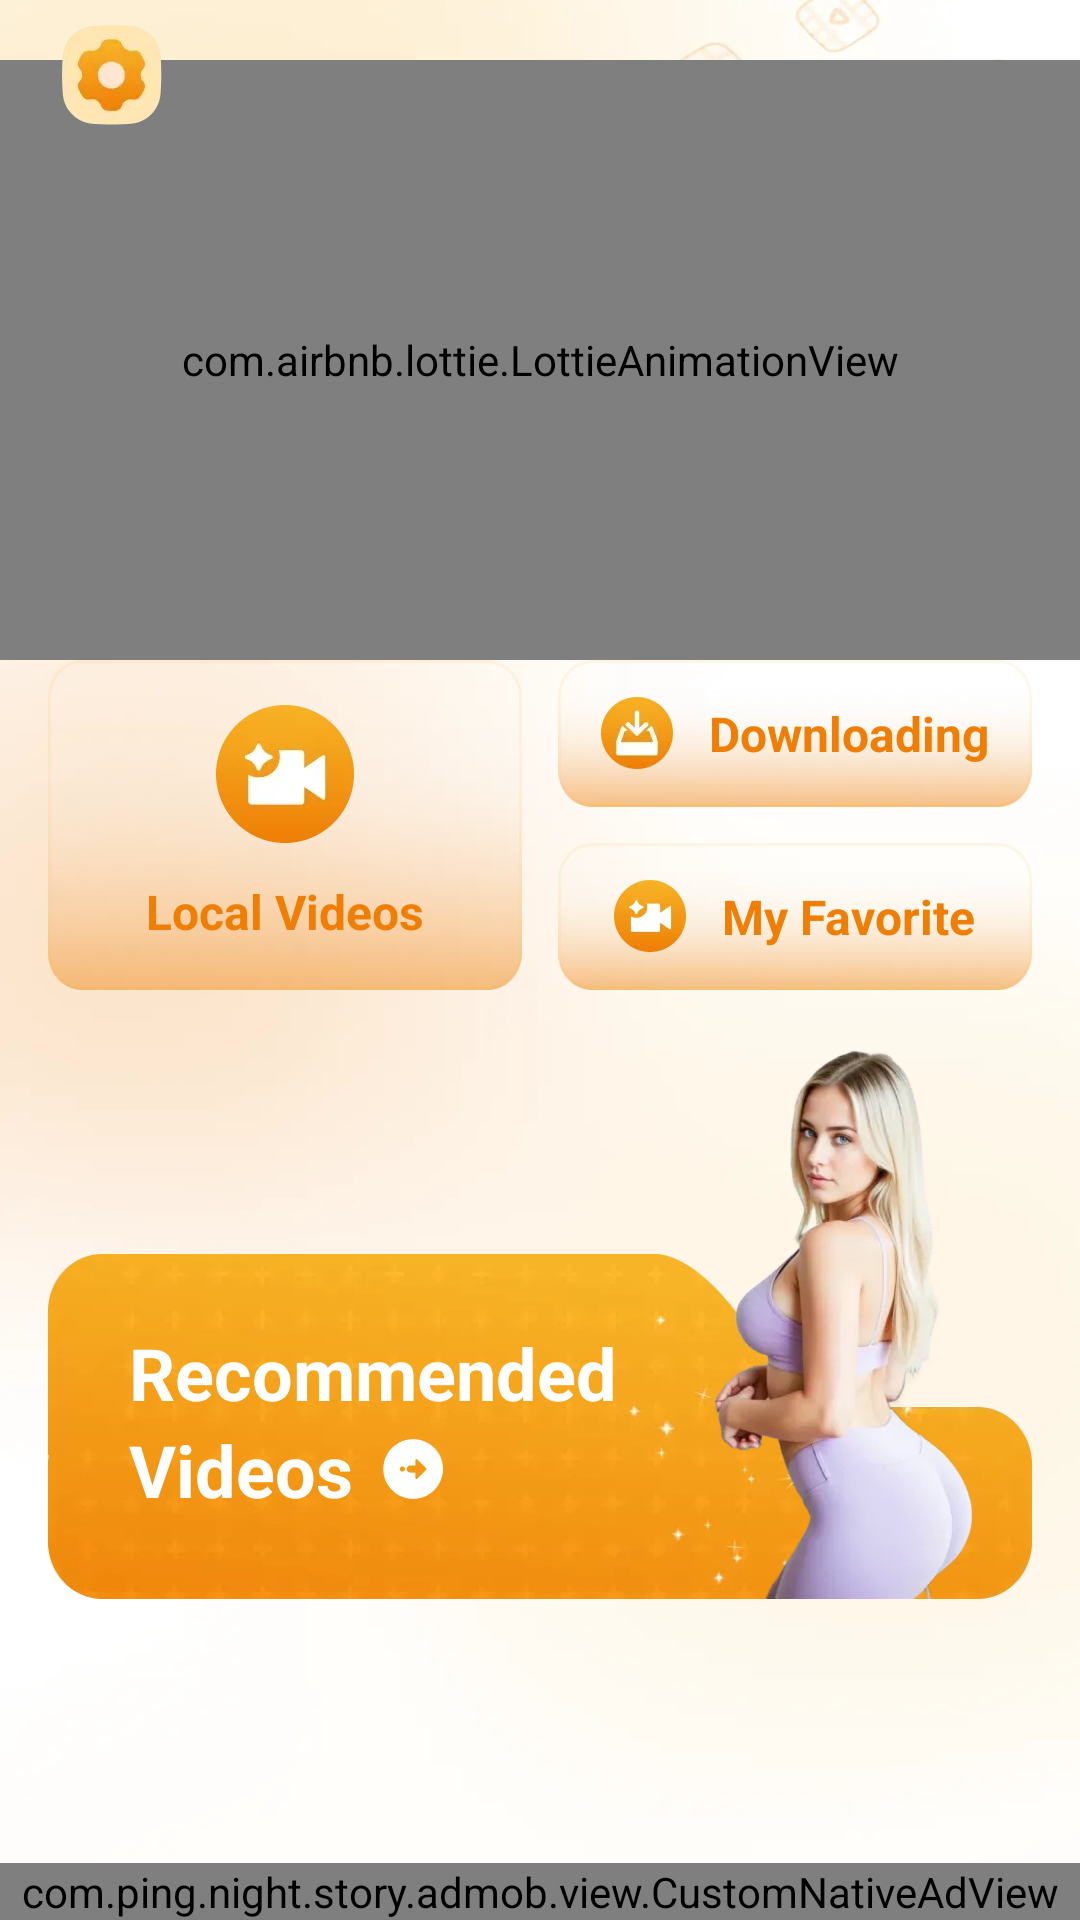

Point at icon controls on the screen. Image size 1080px×1920px, points as (x,y).
home page download: (637,733)
home page settings: (111,75)
home page video: (285,774), (650,916)
